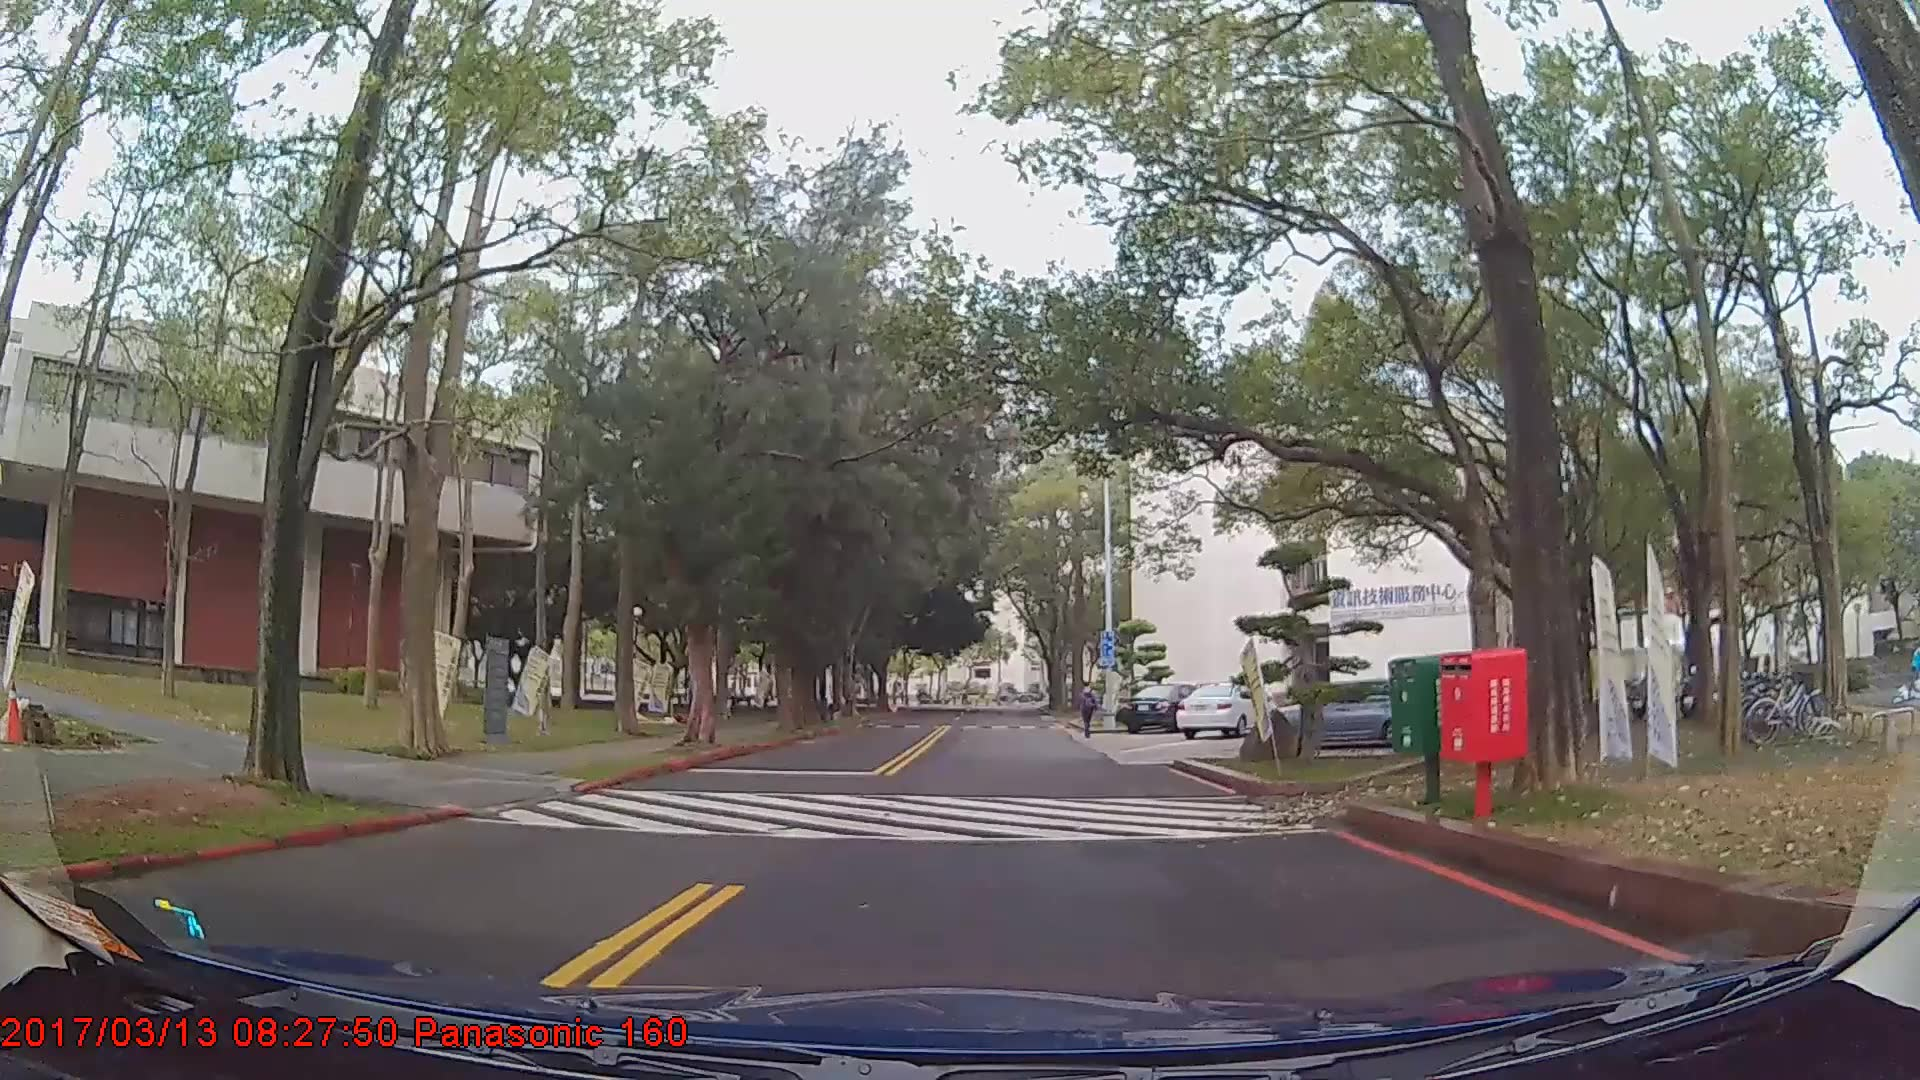pedestrian: (1073, 681, 1100, 744)
vehicle: (1174, 678, 1268, 740), (1115, 683, 1210, 734)
